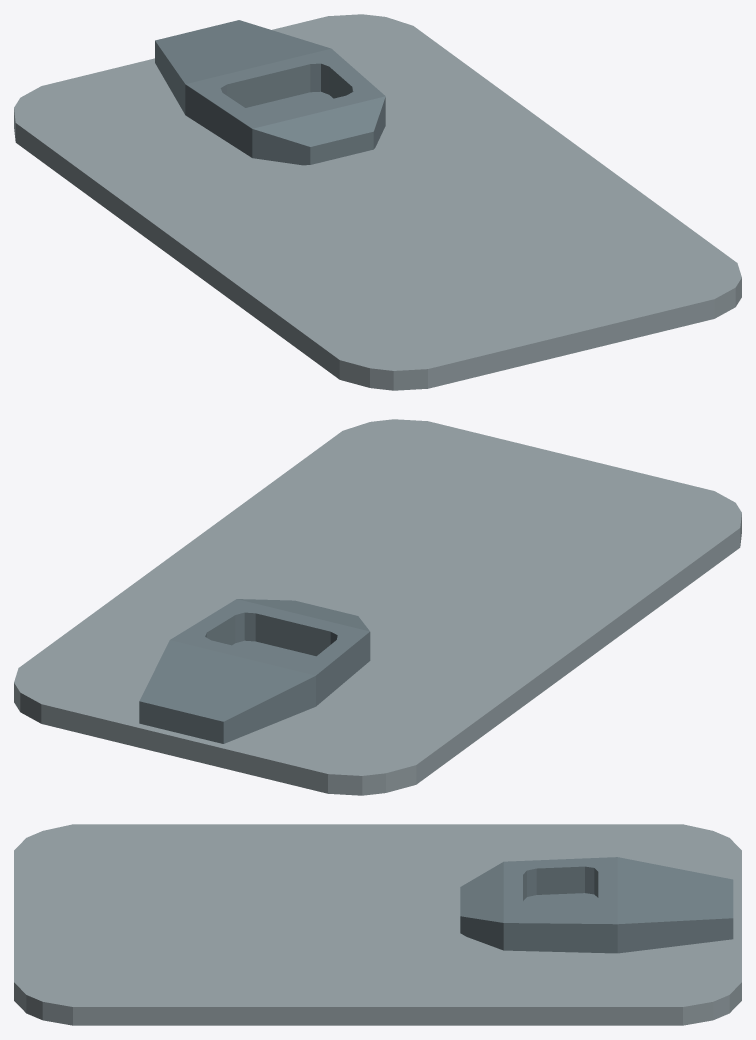
File: TinTop.fbx
3 renders of one model, top to bottom at view 1: azimuth 30°, elevation 25°; view 2: azimuth 150°, elevation 25°; view 3: azimuth 270°, elevation 25°, orthographic. The views are drawn at different scales.
Visible parts, largest first — view 1: Cube.001; view 2: Cube.001; view 3: Cube.001.
Boxes of the visible parts, left/top/right/bottom form: Cube.001: left=14, top=14, right=741, bottom=390; Cube.001: left=14, top=419, right=741, bottom=795; Cube.001: left=14, top=824, right=741, bottom=1025.
Size of the model in its own units: 3.62 by 0.4424 by 6.1.
1 material, 1 textured.
